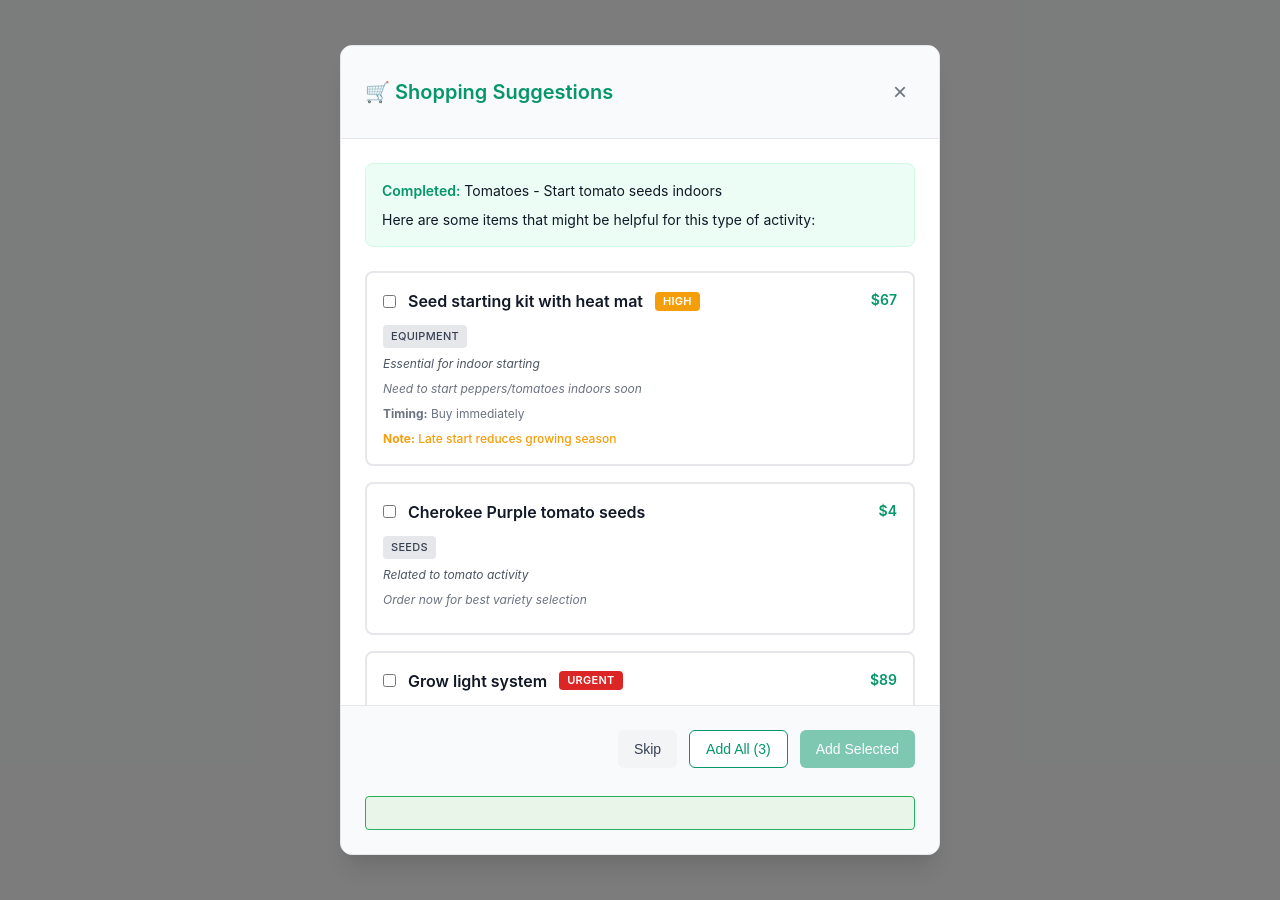
Scenario: ShoppingSuggestionModal › should handle suggestion selection
The image size is (1280, 900).
What coordinates should you click on to do the following:
click the checkbox next to "Seed starting kit with heat mat"
I would click on:
 (390, 301)
Its box is x1=383 y1=294 x2=396 y2=308.
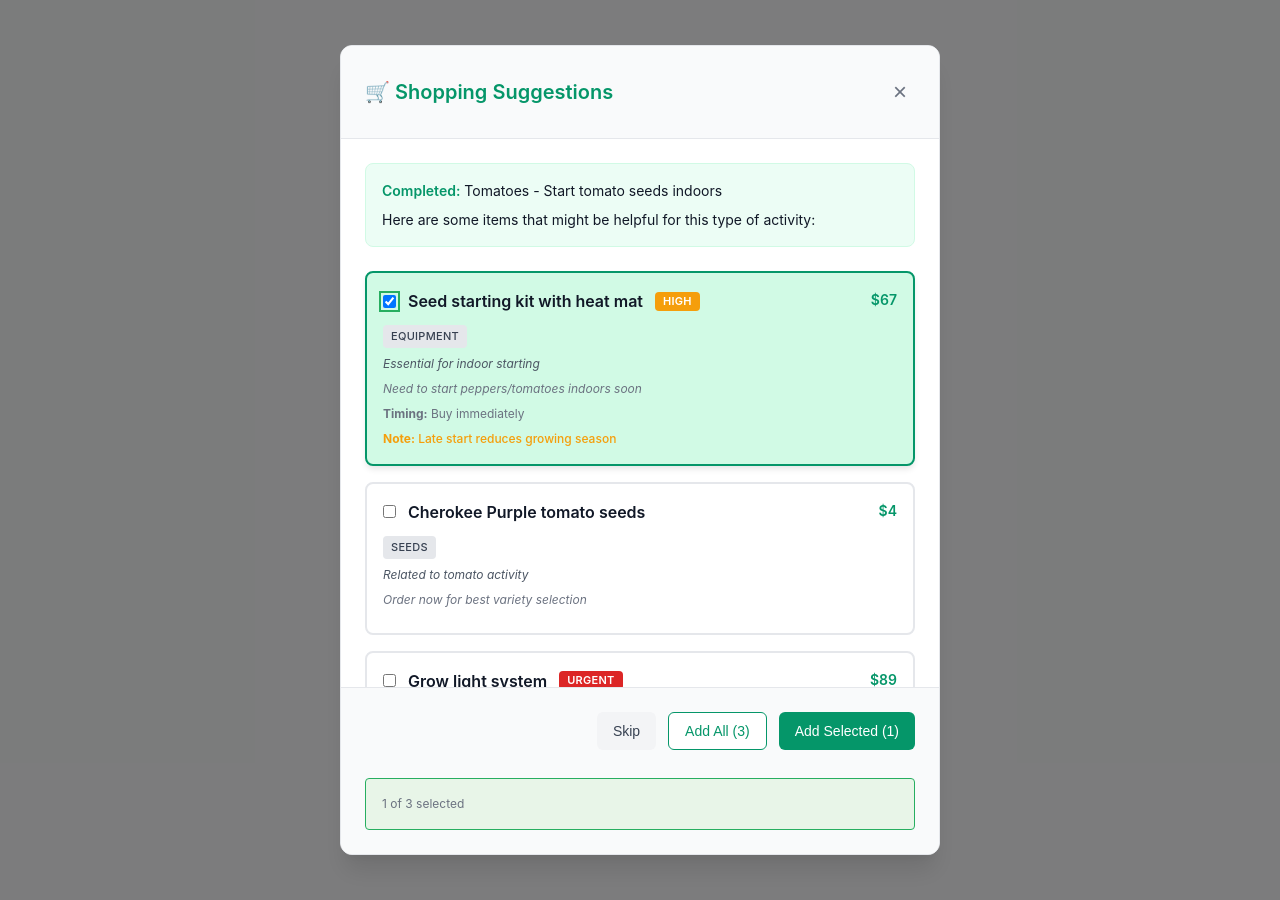
Result: the checkbox next to "Seed starting kit with heat mat" is checked at x1=383 y1=294 x2=396 y2=308
Result: the text "1 of 3 selected" is shown at x1=382 y1=795 x2=464 y2=813
